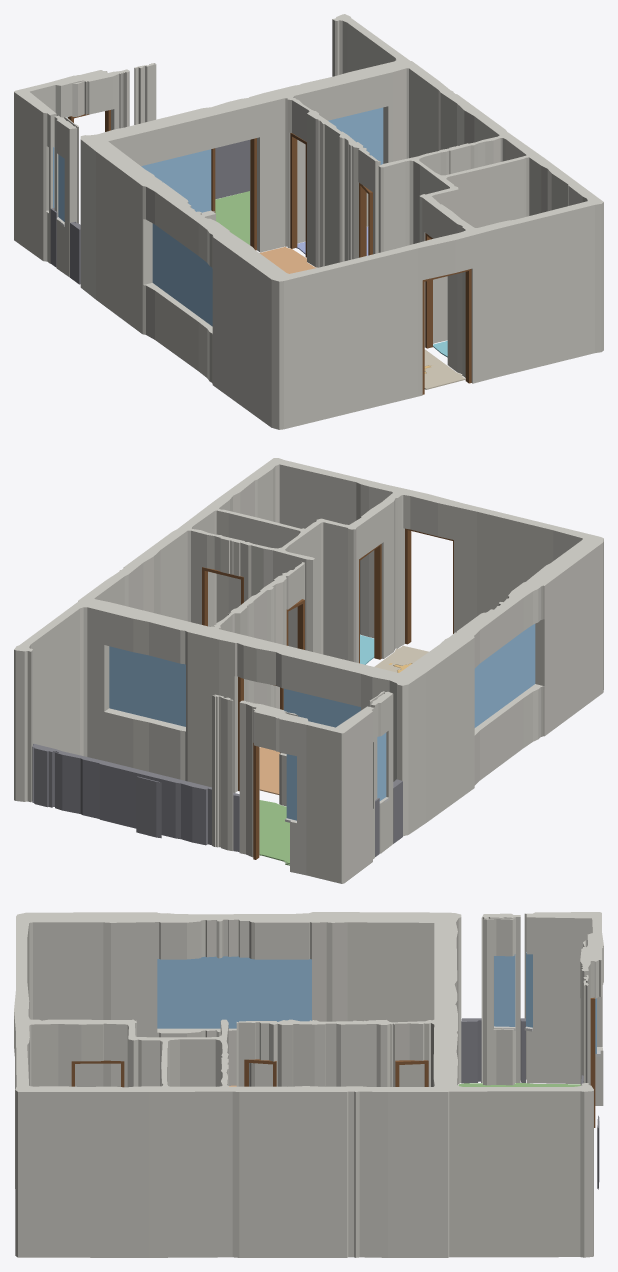
The picture shows the model from 3 angles, top to bottom: view 1: azimuth 30°, elevation 25°; view 2: azimuth 150°, elevation 25°; view 3: azimuth 270°, elevation 25°; orthographic projection. The views are drawn at different scales.
Parts seen in each view (by area): view 1: walls, window_12, railings, window_10, window_11, floor_0_Outdoor, door_6, door_2, door_1, door_3, floor_5_Entry, floor_2_Living_Room (+1 smaller); view 2: walls, railings, window_11, window_12, window_10, floor_0_Outdoor, door_5, door_6, floor_2_Living_Room, door_0, floor_5_Entry, window_7 (+1 smaller); view 3: walls, window_12, railings, window_9, door_0, window_8.
Part boxes in pixels (x1,y1,x2,y2): walls: [14, 14, 603, 429]; window_12: [152, 223, 212, 326]; railings: [50, 140, 249, 284]; window_10: [141, 149, 211, 212]; window_11: [328, 107, 383, 164]; floor_0_Outdoor: [215, 191, 249, 244]; door_6: [422, 269, 471, 394]; door_2: [290, 133, 306, 257]; door_1: [211, 138, 256, 250]; door_3: [359, 183, 372, 257]; floor_5_Entry: [424, 349, 465, 389]; floor_2_Living_Room: [260, 246, 316, 273]; walls: [14, 458, 603, 883]; railings: [32, 743, 402, 856]; window_11: [109, 646, 185, 726]; window_12: [474, 624, 535, 727]; window_10: [283, 688, 360, 727]; floor_0_Outdoor: [259, 800, 289, 865]; door_5: [359, 544, 381, 663]; door_6: [405, 528, 453, 644]; floor_2_Living_Room: [259, 747, 279, 794]; door_0: [253, 743, 259, 859]; floor_5_Entry: [374, 645, 428, 672]; window_7: [286, 754, 296, 820]; walls: [14, 912, 603, 1257]; window_12: [157, 956, 311, 1028]; railings: [461, 1018, 599, 1189]; window_9: [494, 954, 515, 1026]; door_0: [590, 997, 595, 1127]; window_8: [526, 952, 532, 1027].
Size of the model in its own units: 6.29 by 2.72 by 8.71.
